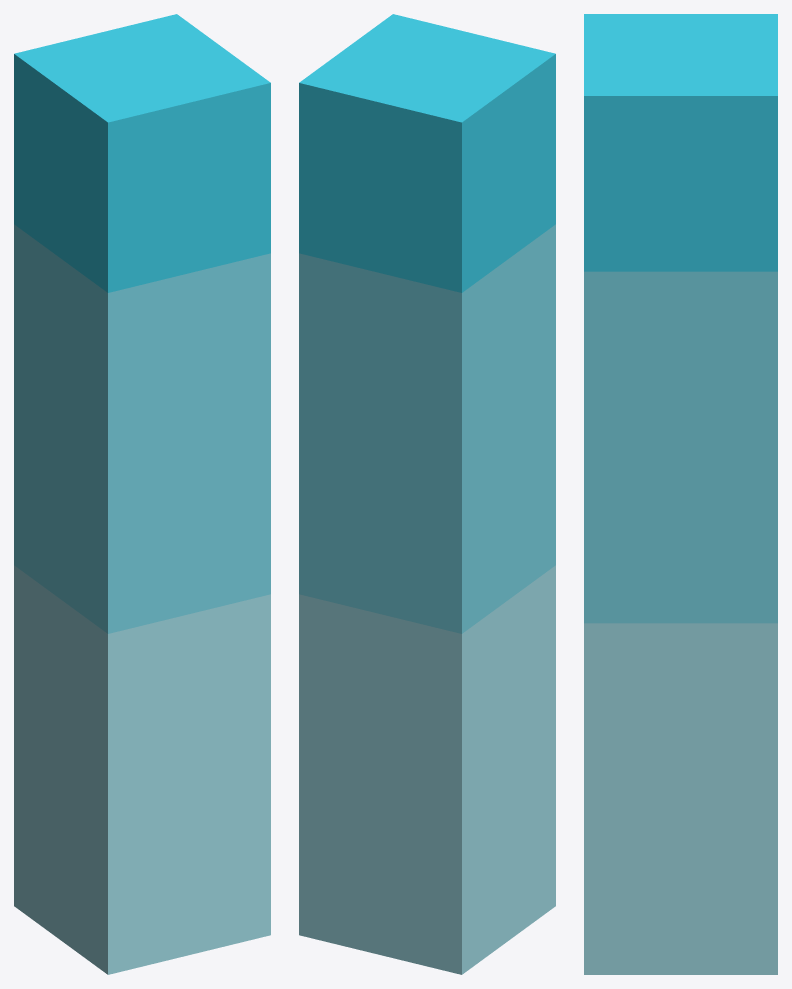
Rendered from Blaster.FBX.
3 views of the same model, side by side, from view 1: azimuth 30°, elevation 25°; view 2: azimuth 150°, elevation 25°; view 3: azimuth 270°, elevation 25° (orthographic). The views are drawn at different scales.
Visible parts, largest first — view 1: model_Blaster_obj; view 2: model_Blaster_obj; view 3: model_Blaster_obj.
Boxes of the visible parts, <box> form: model_Blaster_obj: <box>14,14,270,974</box>; model_Blaster_obj: <box>299,14,555,974</box>; model_Blaster_obj: <box>584,14,777,974</box>.
Size of the model in its own units: 1 by 5 by 1.
Materials: 1 (1 with a texture image).
